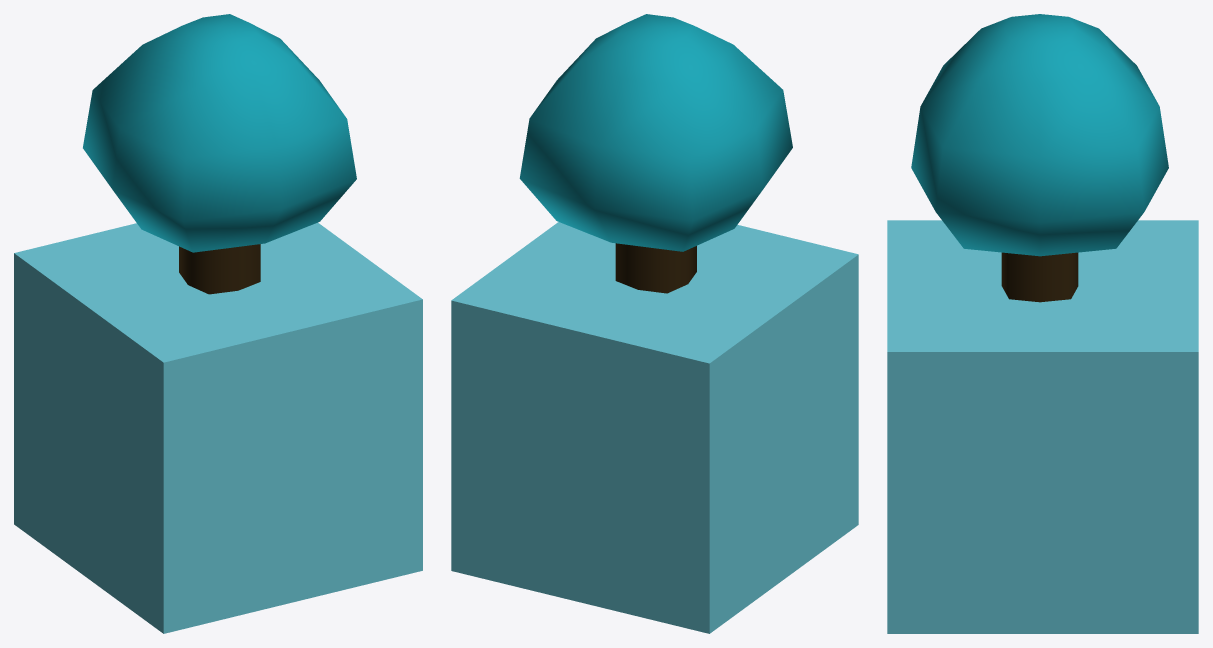
File: IceSmallTreeBlender.glb
3 views of the same model, side by side, from view 1: azimuth 30°, elevation 25°; view 2: azimuth 150°, elevation 25°; view 3: azimuth 270°, elevation 25° (orthographic). The views are drawn at different scales.
Parts seen in each view (by area): view 1: WinterGroundIce, WinterTreeDShort; view 2: WinterGroundIce, WinterTreeDShort; view 3: WinterGroundIce, WinterTreeDShort.
Part boxes in pixels (x1,y1,x2,y2): WinterGroundIce: (14,222,422,633); WinterTreeDShort: (83,14,356,294); WinterGroundIce: (451,222,858,633); WinterTreeDShort: (519,14,792,293); WinterGroundIce: (887,220,1198,633); WinterTreeDShort: (911,14,1168,302).
Bounding box in the file's own units: 2 × 3.84 × 2.
1 material, 1 textured.
